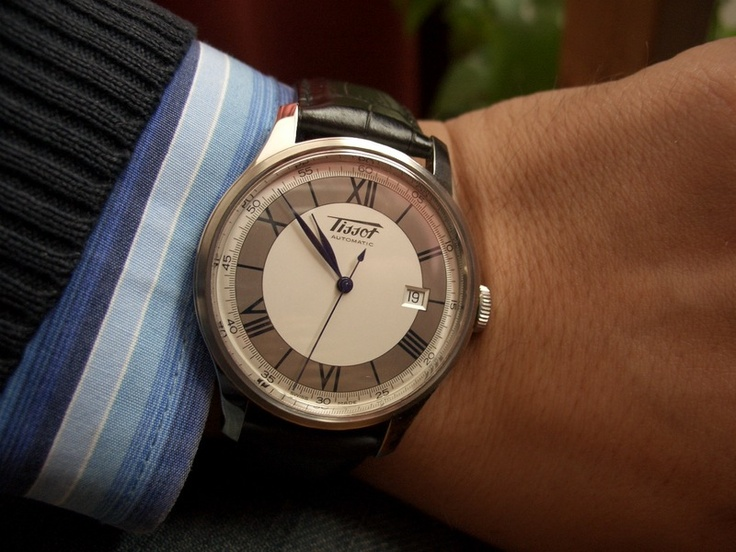clock: (191, 133, 484, 435)
